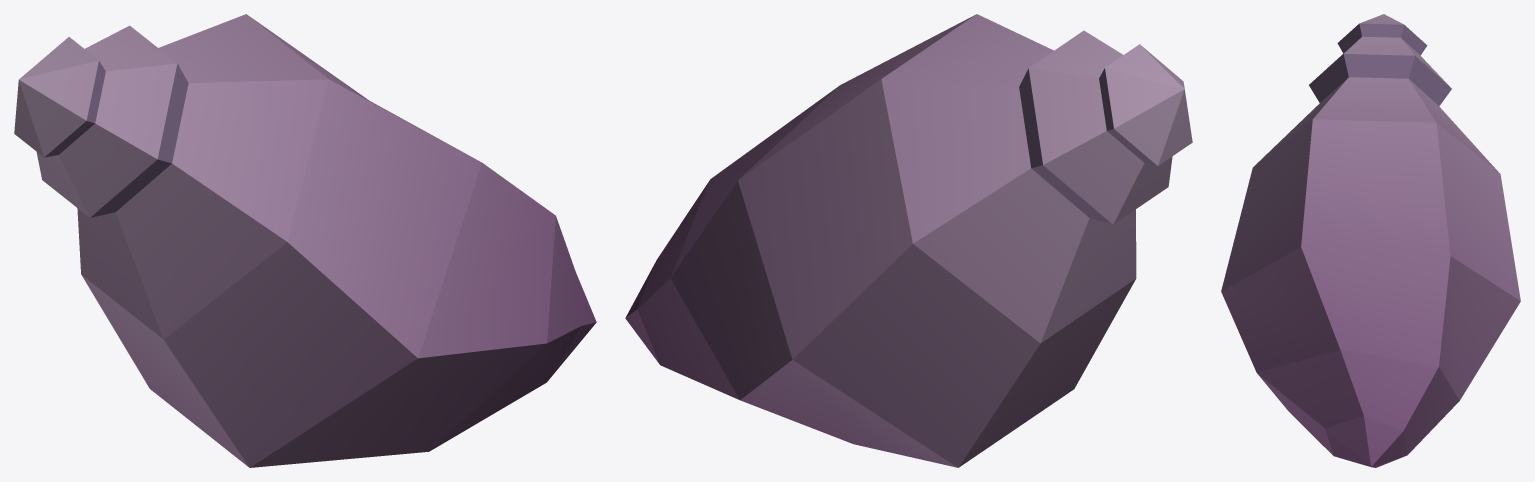
The model's file is shell_pink.fbx.
3 renders of one model, left to right at view 1: azimuth 30°, elevation 25°; view 2: azimuth 150°, elevation 25°; view 3: azimuth 270°, elevation 25°, orthographic. The views are drawn at different scales.
Visible parts, largest first — view 1: shell_pink; view 2: shell_pink; view 3: shell_pink.
Boxes of the visible parts, x1=… form: shell_pink: x1=14, y1=14, x2=596, y2=467; shell_pink: x1=625, y1=14, x2=1192, y2=467; shell_pink: x1=1221, y1=14, x2=1520, y2=467.
Size of the model in its own units: 0.3608 by 0.271 by 0.237.
